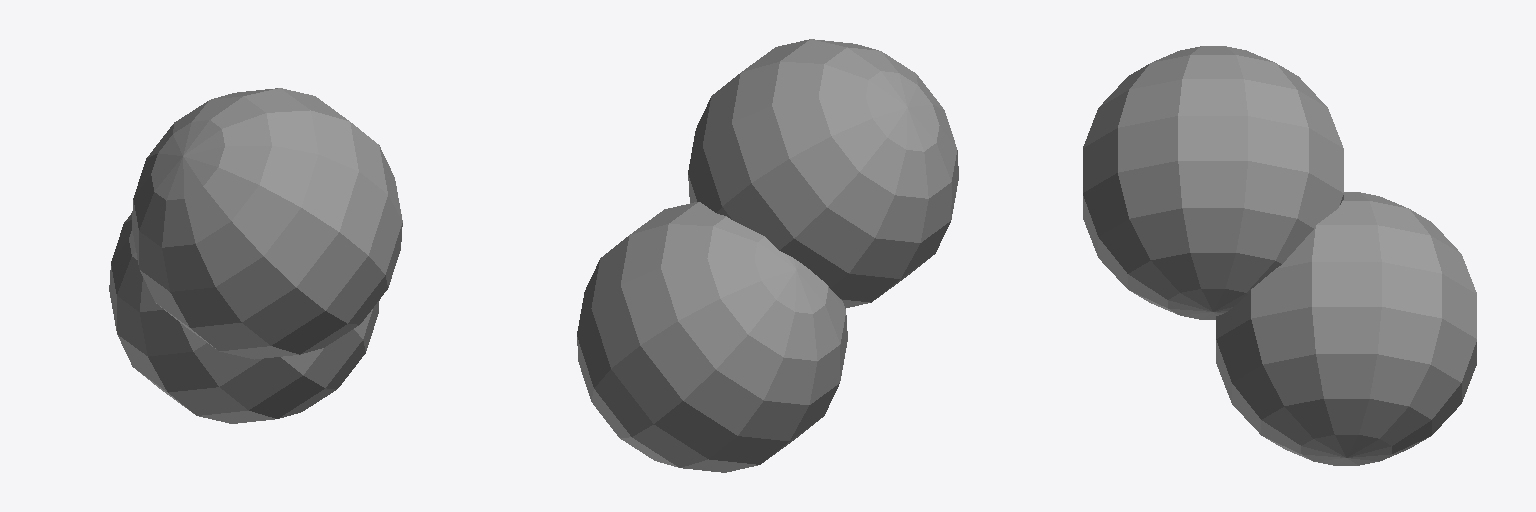
3 views of the same model, side by side, from view 1: azimuth 30°, elevation 25°; view 2: azimuth 150°, elevation 25°; view 3: azimuth 270°, elevation 25° (orthographic).
Parts seen in each view (by area): view 1: bubbles12_group[number redacted]; view 2: bubbles12_group[number redacted]; view 3: bubbles12_group[number redacted].
Boxes of the visible parts, box(x1,y1,x2,y2) form: bubbles12_group[number redacted]: box(109, 88, 402, 423); bubbles12_group[number redacted]: box(577, 39, 958, 472); bubbles12_group[number redacted]: box(1083, 46, 1476, 465).
Size of the model in its own units: 0.1999 by 0.2534 by 0.2461.